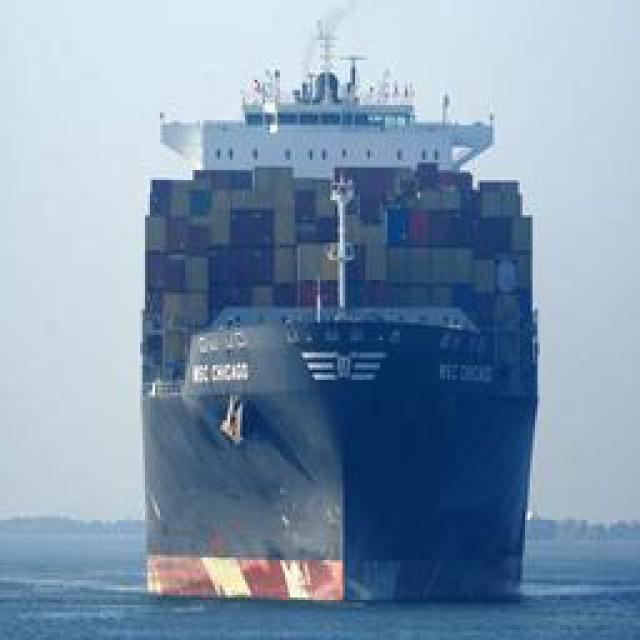Ship: (124, 22, 546, 608)
